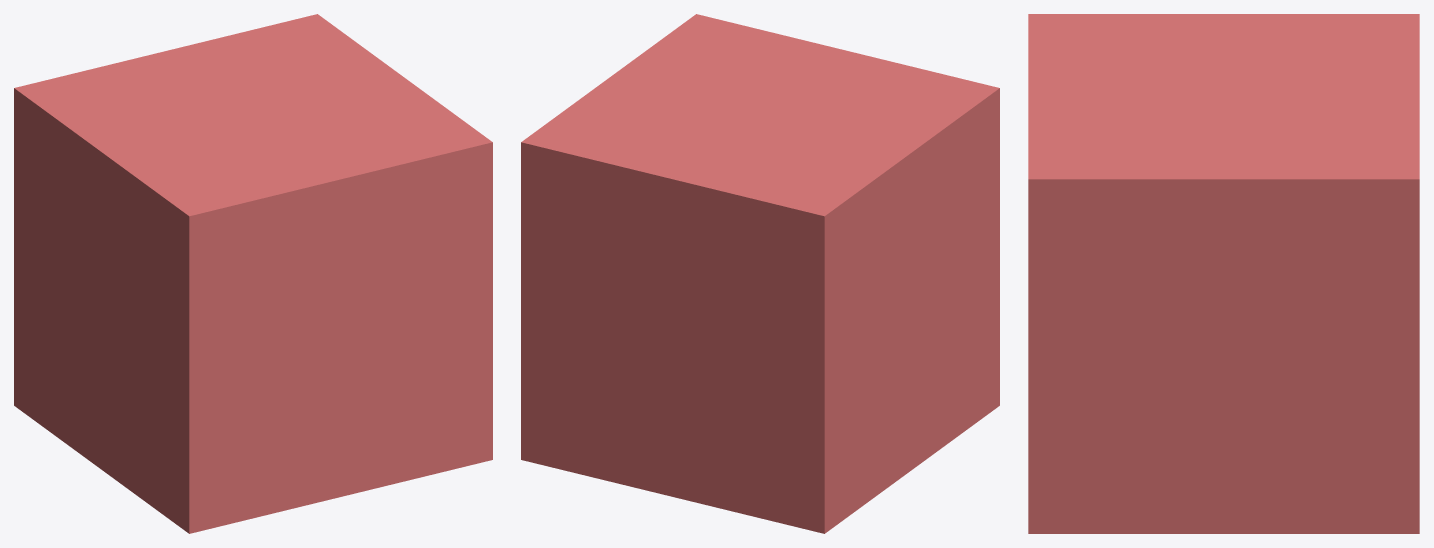
Rendered from enemy.fbx.
The picture shows the model from 3 angles, left to right: view 1: azimuth 30°, elevation 25°; view 2: azimuth 150°, elevation 25°; view 3: azimuth 270°, elevation 25°; orthographic projection. The views are drawn at different scales.
Parts seen in each view (by area): view 1: EnemyBody; view 2: EnemyBody; view 3: EnemyBody.
Boxes of the visible parts, <box> form: EnemyBody: <box>14,14,492,533</box>; EnemyBody: <box>521,14,999,533</box>; EnemyBody: <box>1028,14,1419,533</box>.
Bounding box in the file's own units: 80 × 80 × 80.
